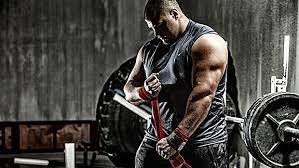face: (142, 3, 187, 46)
